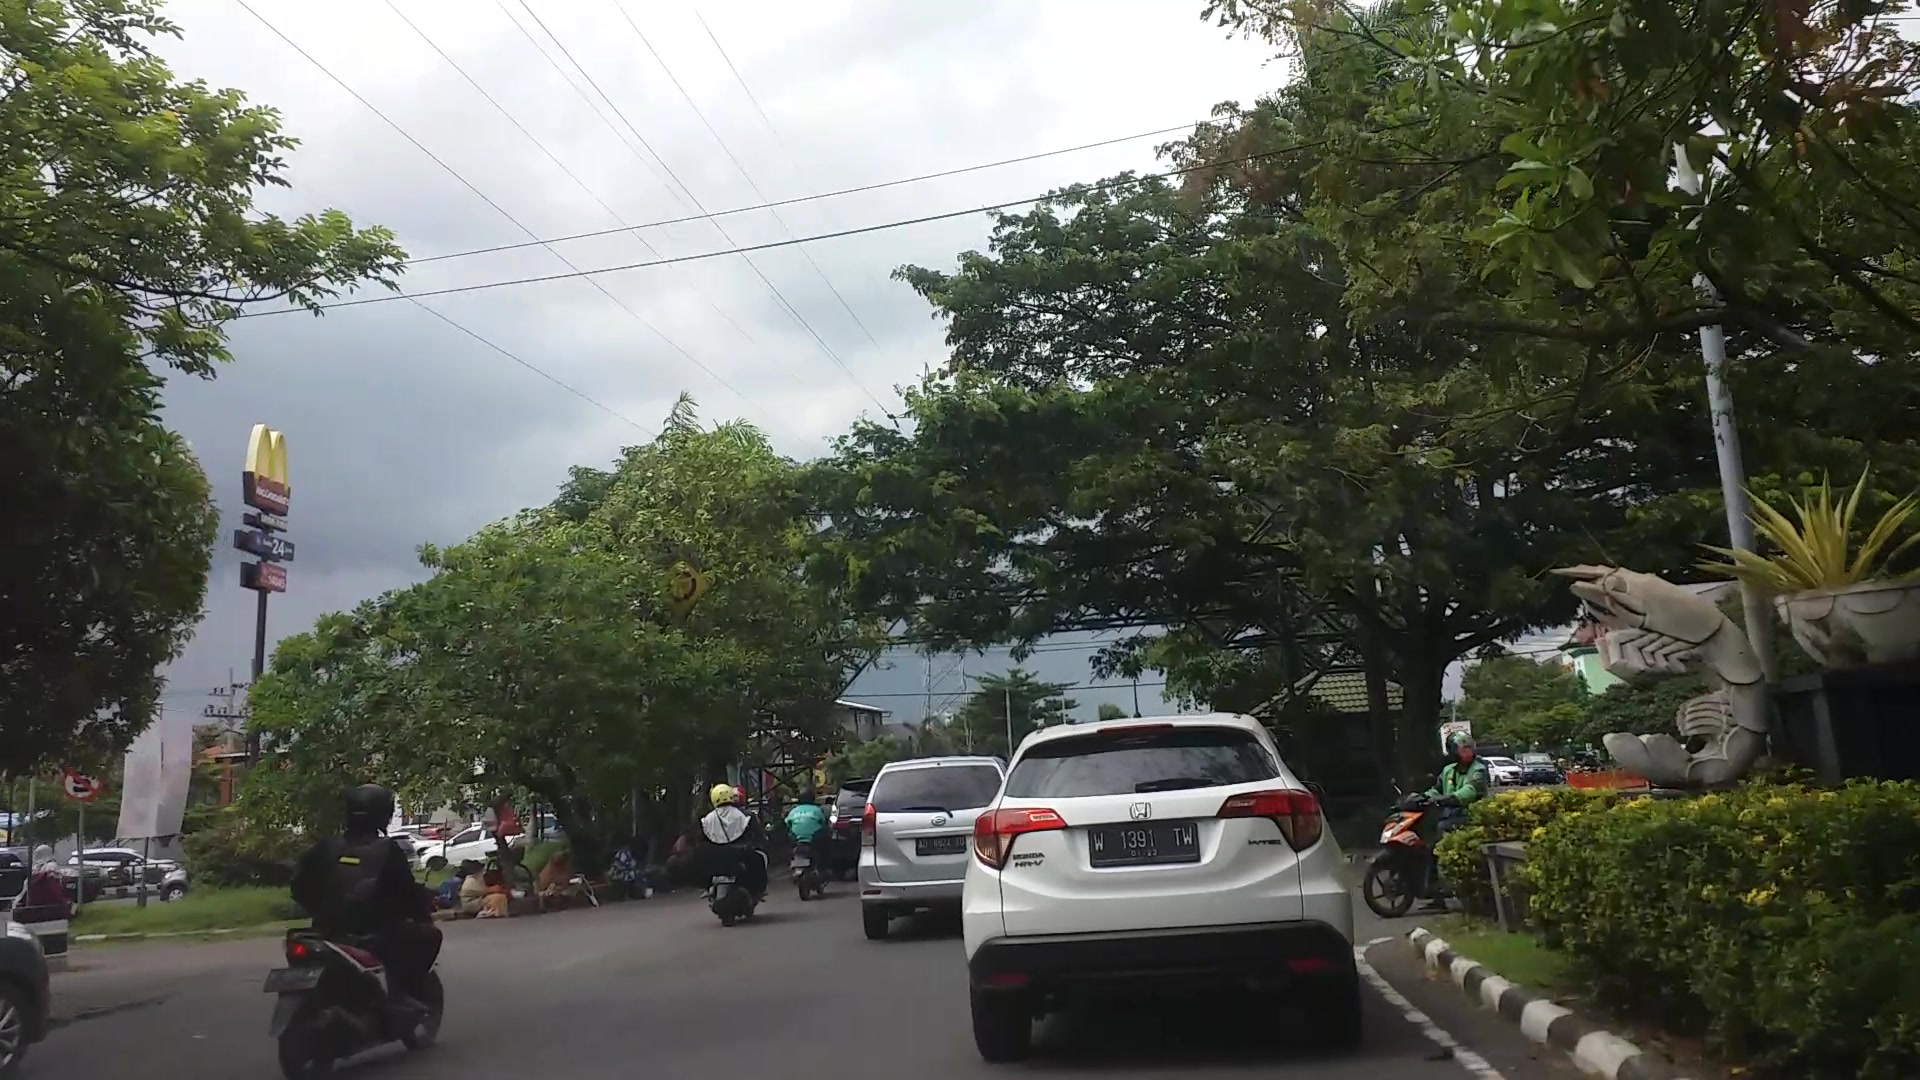plate_positive: (1089, 825, 1200, 866)
